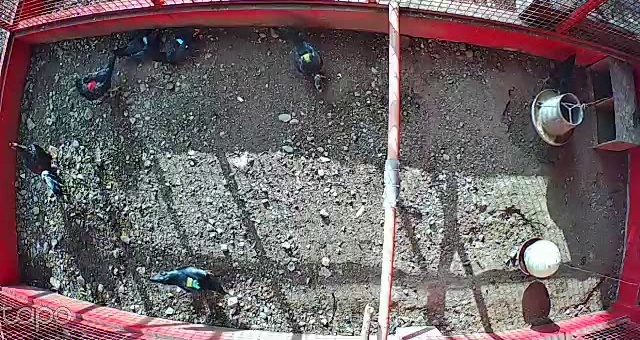Chicken: (281, 25, 335, 101), (149, 262, 237, 304), (74, 53, 124, 102), (112, 24, 165, 69), (154, 25, 207, 68), (538, 51, 579, 95)
Rooster: (7, 136, 68, 199)
Saddle_Color_Blue: (176, 37, 183, 46)
Saddle_Color_Red: (87, 81, 96, 93)
Saddle_Color_Yellow: (302, 51, 313, 63)
Saddle_Color_YellowGreen: (184, 277, 203, 288)
